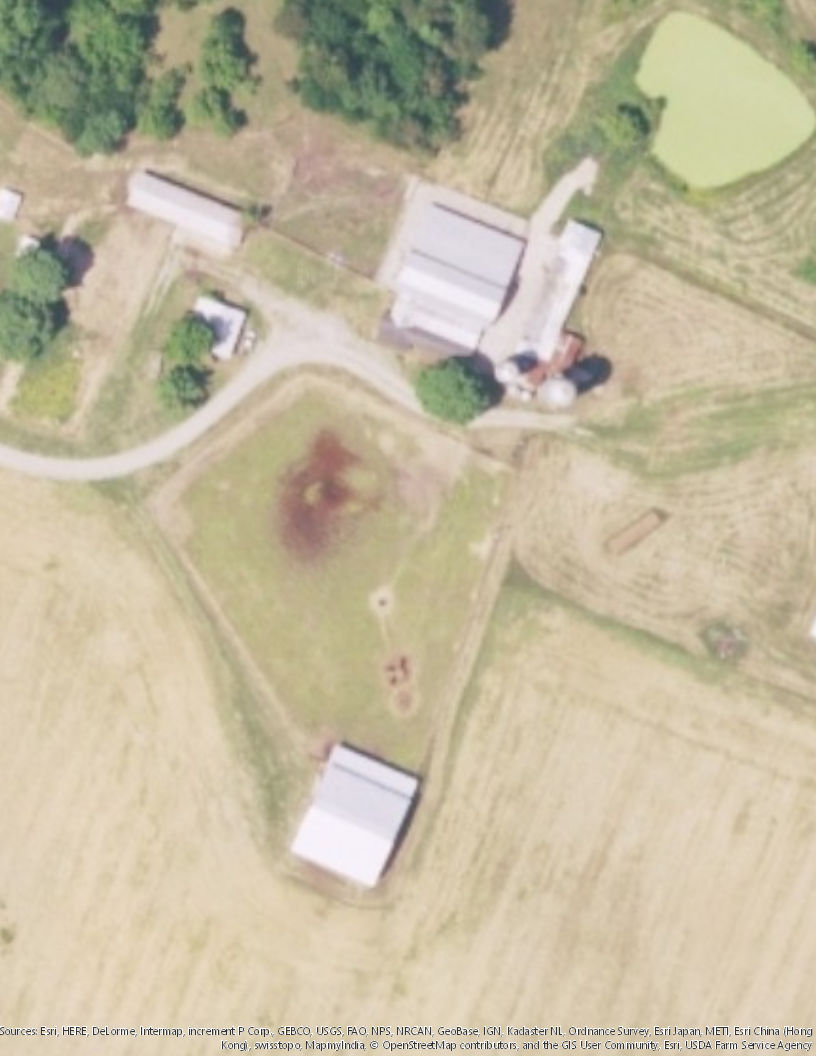cafo: (282, 735, 427, 891), (121, 165, 251, 252)
